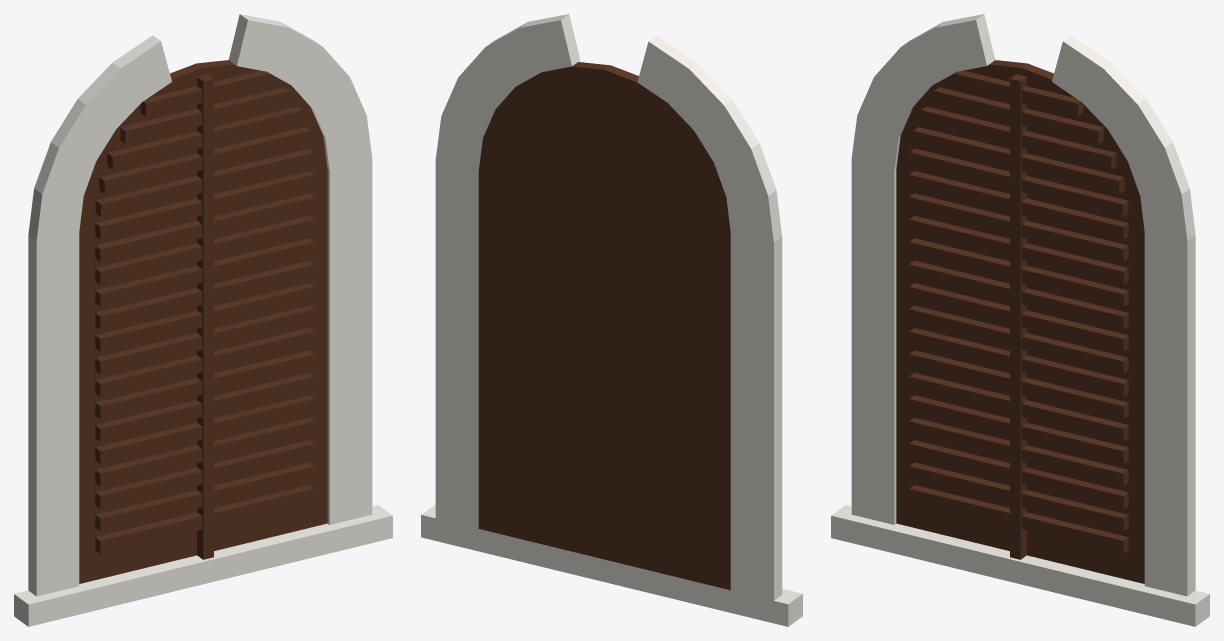
File: arched-window.glb
3 renders of one model, left to right at view 1: azimuth 30°, elevation 25°; view 2: azimuth 150°, elevation 25°; view 3: azimuth 330°, elevation 25°, orthographic.
Parts seen in each view (by area): view 1: arched-window-shutter, arched-window-plaster; view 2: arched-window-shutter, arched-window-plaster; view 3: arched-window-shutter, arched-window-plaster.
Boxes of the visible parts, x1,y1,x2,y2 form: arched-window-shutter: [79, 60, 327, 583]; arched-window-plaster: [14, 14, 392, 626]; arched-window-shutter: [478, 62, 730, 590]; arched-window-plaster: [421, 14, 802, 626]; arched-window-shutter: [896, 60, 1144, 583]; arched-window-plaster: [831, 14, 1209, 626].
Bounding box in the file's own units: 1.02 × 1.46 × 0.07.
